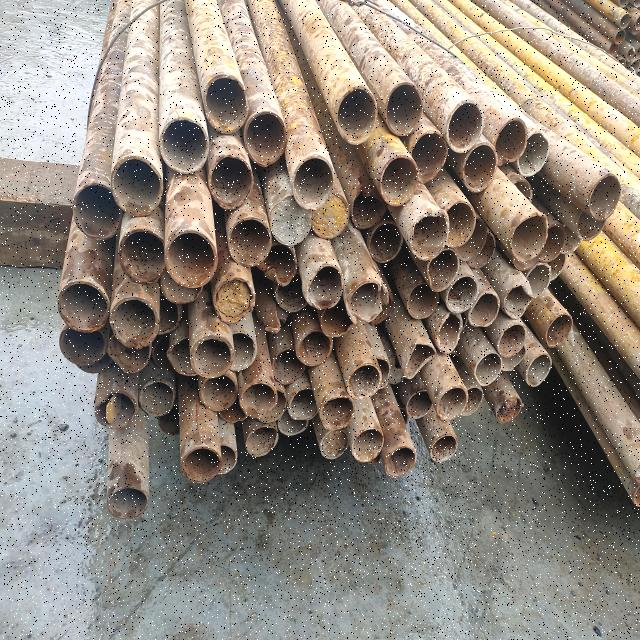pipe: (110, 156, 162, 216), (73, 180, 124, 241), (165, 230, 218, 288), (160, 116, 210, 174), (58, 281, 110, 333), (204, 74, 249, 134), (118, 228, 166, 283), (110, 296, 159, 348), (245, 111, 288, 167), (337, 86, 377, 145), (210, 156, 253, 210), (292, 155, 334, 209), (268, 196, 312, 246), (59, 324, 108, 366), (213, 277, 256, 324), (230, 218, 272, 266), (411, 210, 450, 260), (380, 156, 419, 206), (387, 82, 423, 136), (192, 334, 236, 378), (255, 241, 298, 286), (411, 132, 448, 184), (448, 100, 483, 154), (107, 332, 153, 372), (511, 213, 548, 262), (346, 280, 389, 322), (462, 142, 498, 192), (304, 264, 344, 308), (312, 193, 349, 239), (494, 116, 528, 166), (442, 200, 477, 248), (95, 390, 137, 430), (160, 266, 202, 304), (275, 270, 311, 314), (453, 216, 488, 261), (351, 188, 388, 230), (181, 446, 221, 484), (200, 371, 238, 411), (368, 220, 404, 262), (589, 173, 621, 220), (518, 130, 550, 176), (224, 329, 258, 372), (296, 328, 334, 366), (427, 247, 459, 292), (320, 297, 356, 337), (167, 334, 200, 376), (240, 382, 278, 418), (403, 340, 437, 380), (108, 486, 150, 518), (346, 363, 382, 399), (320, 395, 356, 430), (436, 384, 469, 422), (407, 282, 440, 320), (272, 348, 306, 384), (140, 380, 176, 414), (446, 274, 478, 312), (216, 385, 248, 423), (538, 223, 568, 263), (503, 280, 533, 320), (150, 294, 180, 334), (436, 309, 462, 354), (468, 291, 500, 327), (352, 427, 384, 462), (244, 426, 279, 458), (576, 206, 607, 242), (467, 232, 498, 268), (288, 387, 320, 421), (256, 388, 288, 422), (498, 322, 528, 358), (385, 446, 417, 478), (320, 426, 350, 460), (526, 262, 552, 300), (473, 352, 502, 386), (277, 406, 309, 436), (546, 314, 574, 348), (78, 348, 114, 373), (499, 340, 527, 372), (526, 353, 552, 387), (158, 402, 184, 436), (153, 332, 175, 372), (558, 222, 584, 255), (406, 389, 434, 418), (431, 433, 458, 462), (458, 386, 484, 416), (544, 250, 566, 282), (497, 397, 522, 425), (215, 444, 238, 474), (384, 354, 406, 384), (372, 356, 391, 389), (510, 179, 534, 204)
